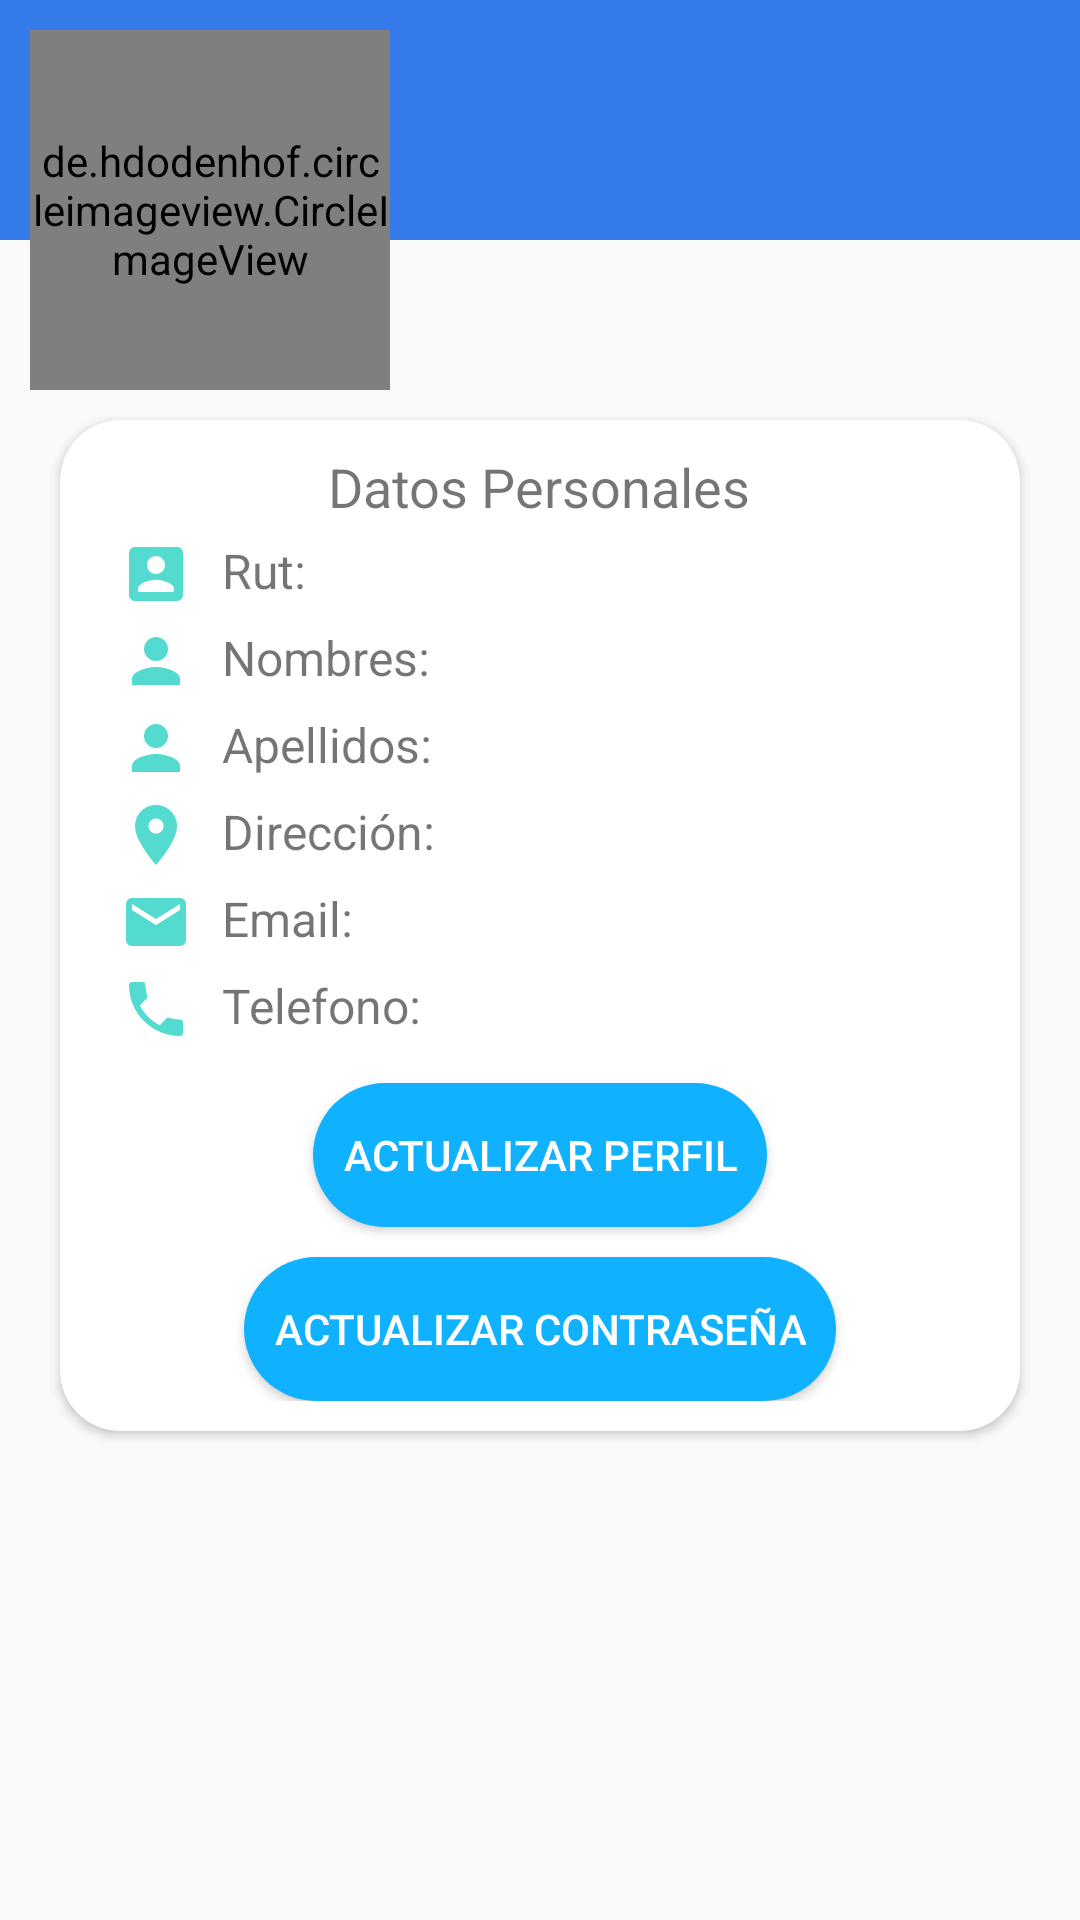

Named icons in this screenshot (1080*1920) and their centers, (x,y):
location on: (156,835)
phone: (156,1009)
